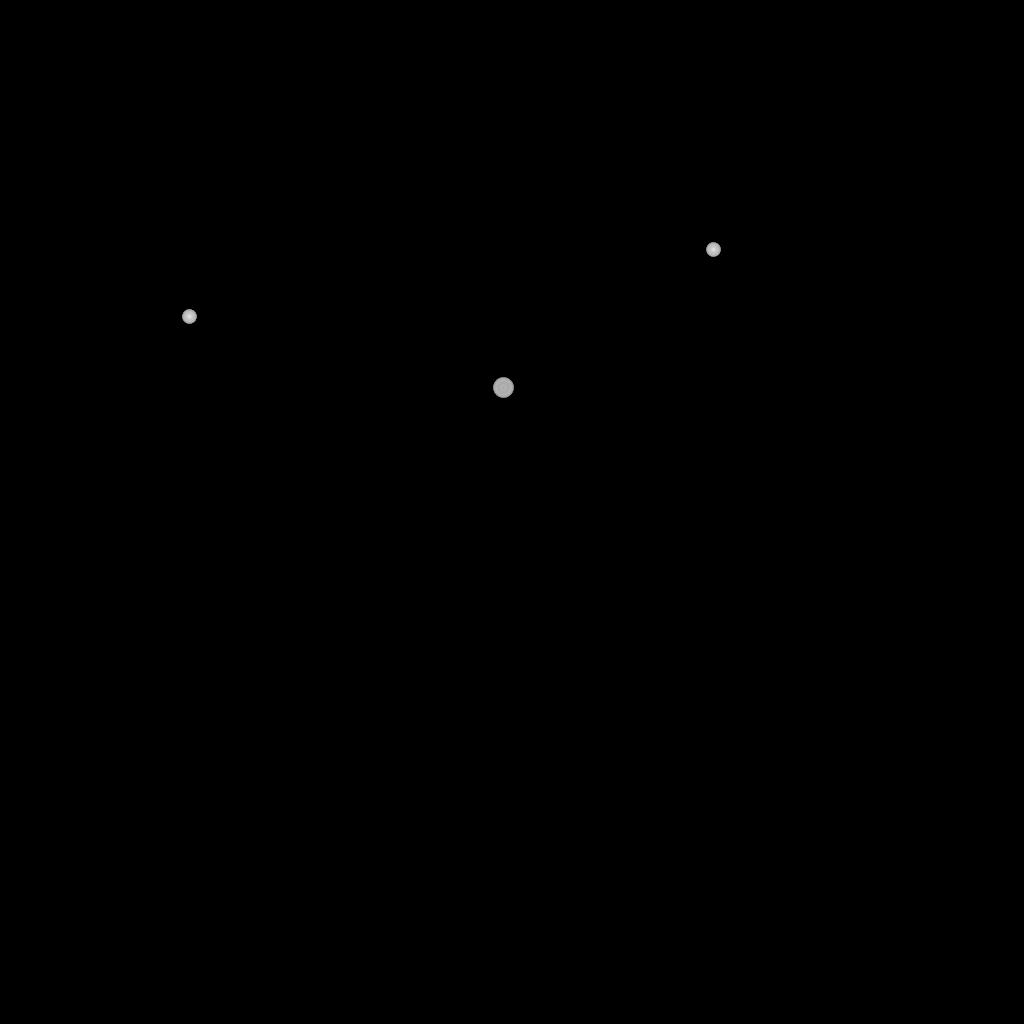depth:-30: (706, 243, 720, 257), (182, 310, 196, 324)
depth:-40: (493, 378, 513, 398)
